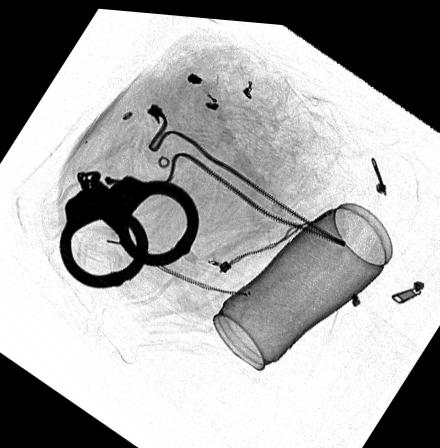HandCuffs: (58, 167, 200, 289)
